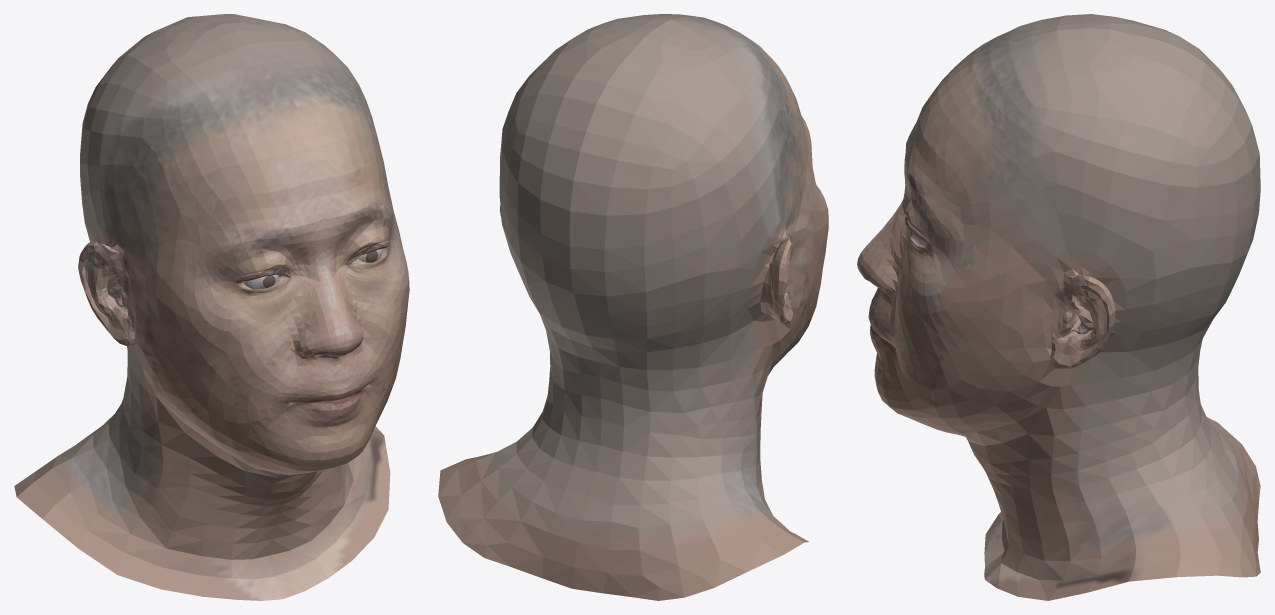
File: jingu_2photo.glb
The picture shows the model from 3 angles, left to right: view 1: azimuth 30°, elevation 25°; view 2: azimuth 150°, elevation 25°; view 3: azimuth 270°, elevation 25°; orthographic projection. The views are drawn at different scales.
Visible parts, largest first — view 1: world; view 2: world; view 3: world.
Boxes of the visible parts, left/top/right/bottom form: world: left=14, top=14, right=409, bottom=600; world: left=438, top=14, right=828, bottom=600; world: left=857, top=14, right=1260, bottom=600.
Bounding box in the file's own units: 221 × 323 × 219.
